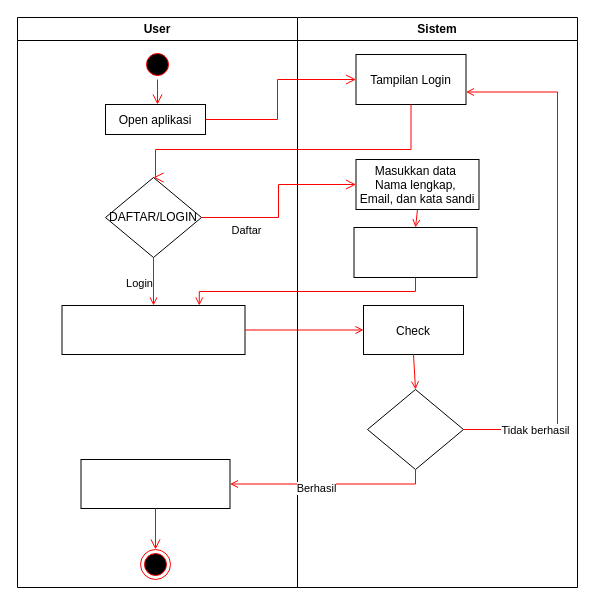
This 595x605 diagram has some shape labels left out. The shapes that lost their labels are listed below. From the top down, each one's centre as x and y in pixels, then its label:
At pixel 415 252: "Menyimpan data".
At pixel 153 329: "Masukkan username & password".
At pixel 415 429: "Berhasil Login".
At pixel 155 483: "Display Menu".
